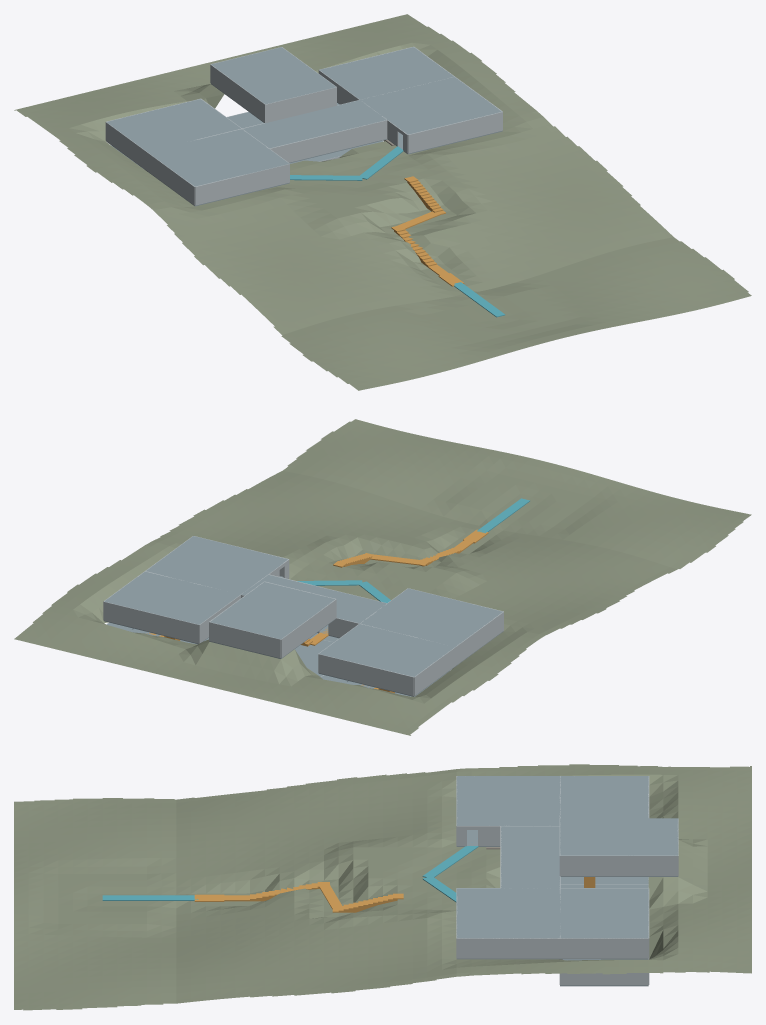
The model's file is connected-stairs.glb.
The picture shows the model from 3 angles, top to bottom: view 1: azimuth 30°, elevation 25°; view 2: azimuth 150°, elevation 25°; view 3: azimuth 270°, elevation 25°; orthographic projection. The views are drawn at different scales.
Parts seen in each view (by area): view 1: Saved editor stair bench terrain WLD-17, Ceiling cap west, Ceiling cap east, Ceiling cap director, Ceiling cap service, Ceiling cap magazine, Ceiling cap gallery, Wall gallery S, Wall east S, Wall west S, Wall director S, Wall director W (+2 smaller); view 2: Saved editor stair bench terrain WLD-17, Ceiling cap west, Ceiling cap east, Ceiling cap service, Ceiling cap director, Ceiling cap magazine, Wall service N, Wall magazine N, Ceiling cap gallery, Wall director N, Wall director W, Wall west W (+2 smaller); view 3: Saved editor stair bench terrain WLD-17, Ceiling cap east, Ceiling cap west, Ceiling cap service, Ceiling cap director, Ceiling cap magazine, Ceiling cap gallery, Wall director E, Wall east E, Wall service E, Wall plant E, route-01 support 0 (+3 smaller).
Boxes of the visible parts, x1,y1,x2,y2 form: Saved editor stair bench terrain WLD-17: [14, 14, 751, 390]; Ceiling cap west: [148, 129, 289, 186]; Ceiling cap east: [360, 77, 501, 134]; Ceiling cap director: [211, 47, 335, 104]; Ceiling cap service: [319, 47, 454, 99]; Ceiling cap magazine: [107, 99, 240, 151]; Ceiling cap gallery: [243, 100, 386, 148]; Wall gallery S: [269, 120, 387, 162]; Wall east S: [408, 112, 502, 153]; Wall west S: [195, 164, 289, 205]; Wall director S: [265, 87, 336, 122]; Wall director W: [210, 64, 265, 122]; Saved editor stair bench terrain WLD-17: [14, 419, 751, 735]; Ceiling cap west: [360, 588, 502, 646]; Ceiling cap east: [146, 536, 287, 594]; Ceiling cap service: [104, 571, 240, 624]; Ceiling cap director: [210, 582, 335, 639]; Ceiling cap magazine: [319, 624, 454, 676]; Wall service N: [103, 601, 199, 643]; Wall magazine N: [318, 654, 413, 695]; Ceiling cap gallery: [241, 575, 386, 623]; Wall director N: [209, 622, 280, 658]; Wall director W: [281, 599, 336, 658]; Wall west W: [456, 611, 503, 665]; Saved editor stair bench terrain WLD-17: [14, 764, 751, 1010]; Ceiling cap east: [456, 888, 559, 938]; Ceiling cap west: [456, 776, 559, 825]; Ceiling cap service: [560, 888, 648, 938]; Ceiling cap director: [560, 818, 678, 855]; Ceiling cap magazine: [560, 776, 648, 818]; Ceiling cap gallery: [501, 826, 559, 888]; Wall director E: [560, 855, 678, 876]; Wall east E: [456, 938, 559, 958]; Wall service E: [560, 938, 648, 958]; Wall plant E: [560, 973, 648, 985]; route-01 support 0: [102, 895, 198, 900].
Bounding box in the file's own units: 68 × 10.7 × 100.
